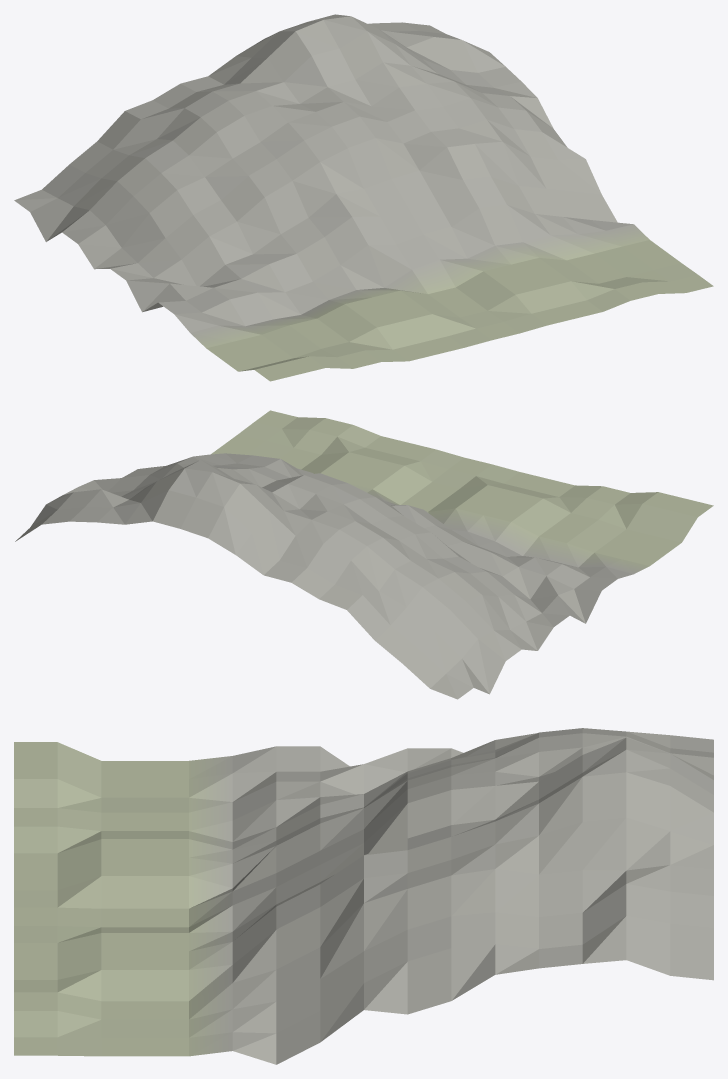
3 renders of one model, top to bottom at view 1: azimuth 30°, elevation 25°; view 2: azimuth 150°, elevation 25°; view 3: azimuth 270°, elevation 25°, orthographic. The views are drawn at different scales.
Bounding box in the file's own units: 32 × 10.66 × 32.
